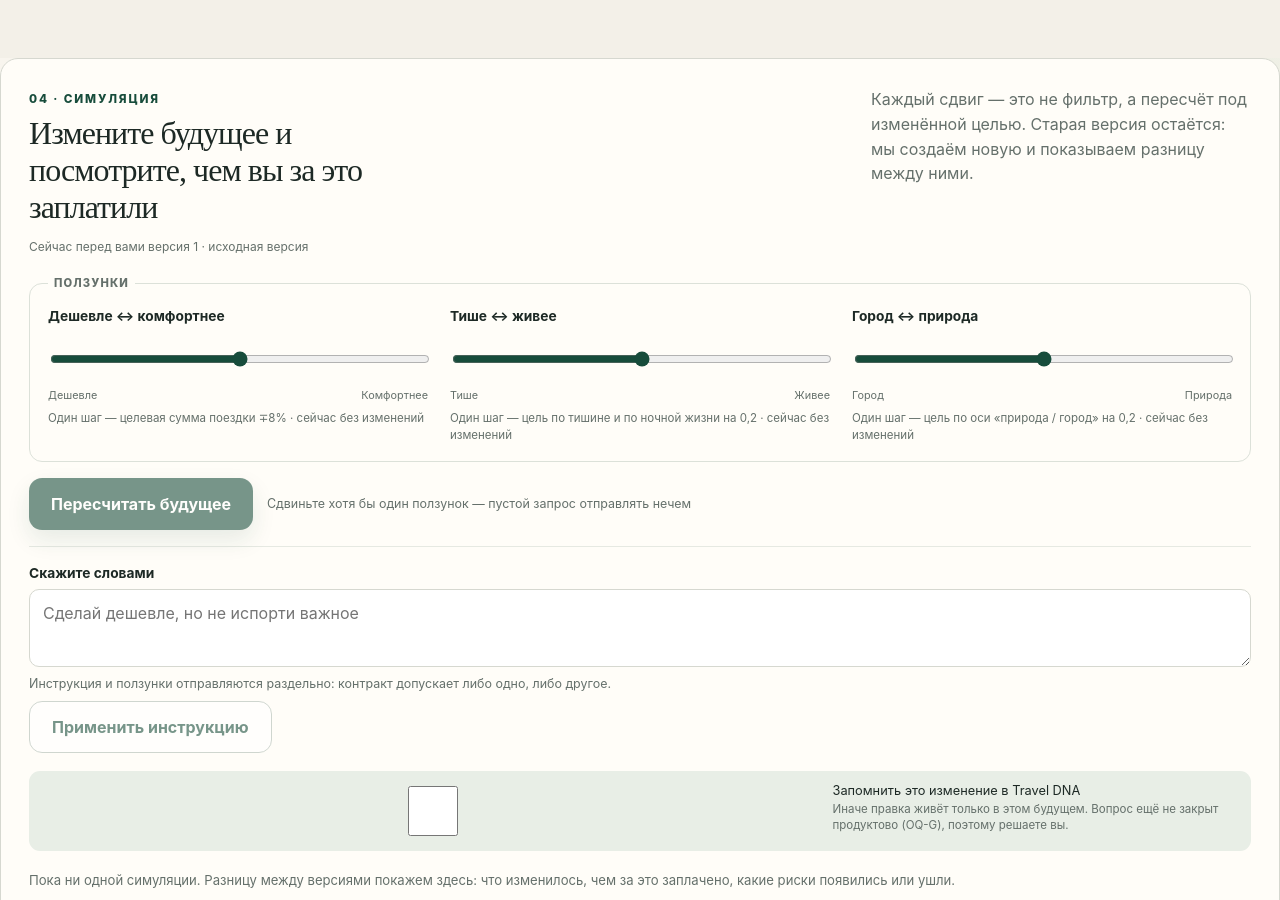
Scenario: SimulatorPanel › does not treat a job without a result as a success
Set the slider labelled "Дешевле ↔ комфортнее" to "-1": (179, 359) [50,334,430,384]
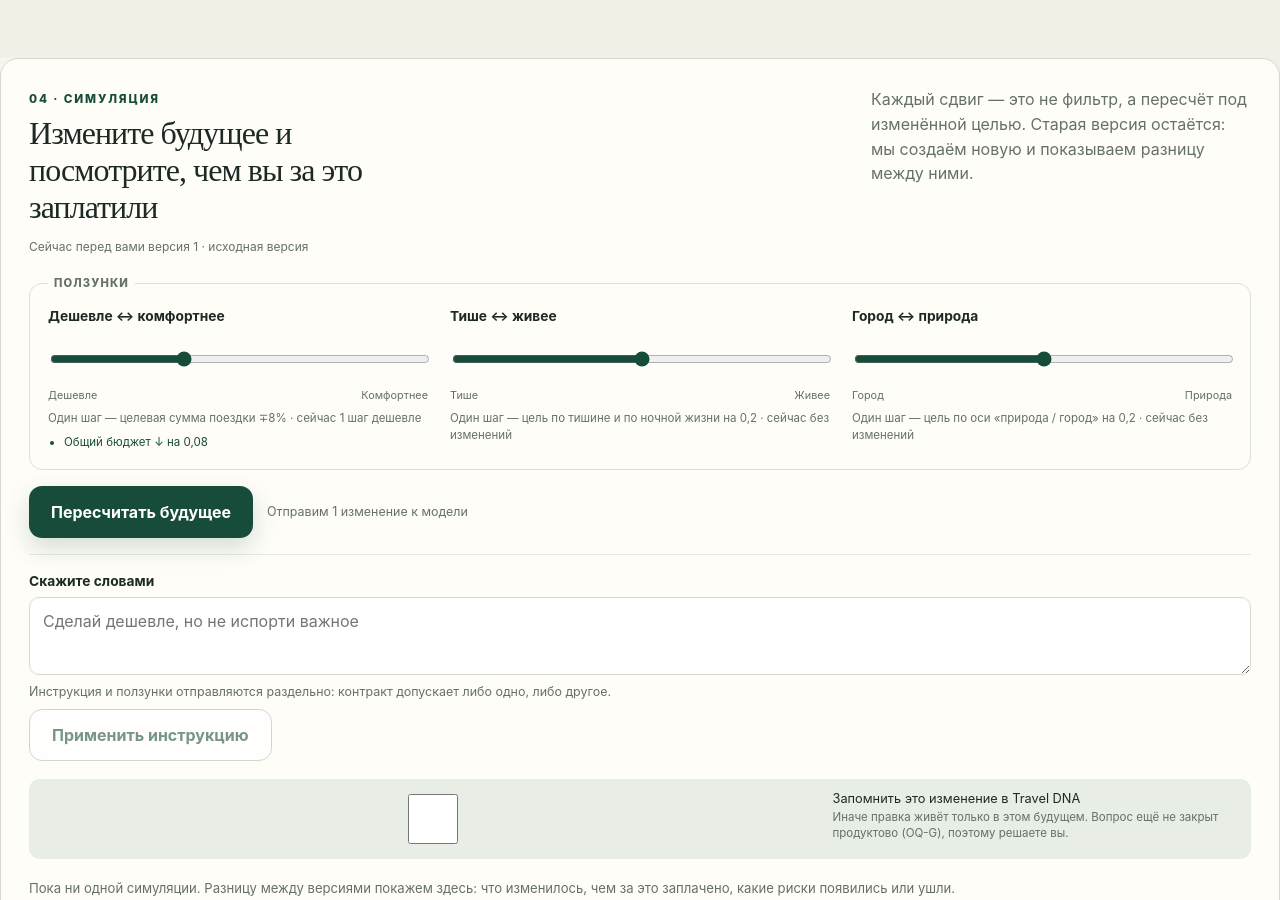
Click the button "Пересчитать будущее": (141, 512) [29,486,253,538]
(page scrolled)
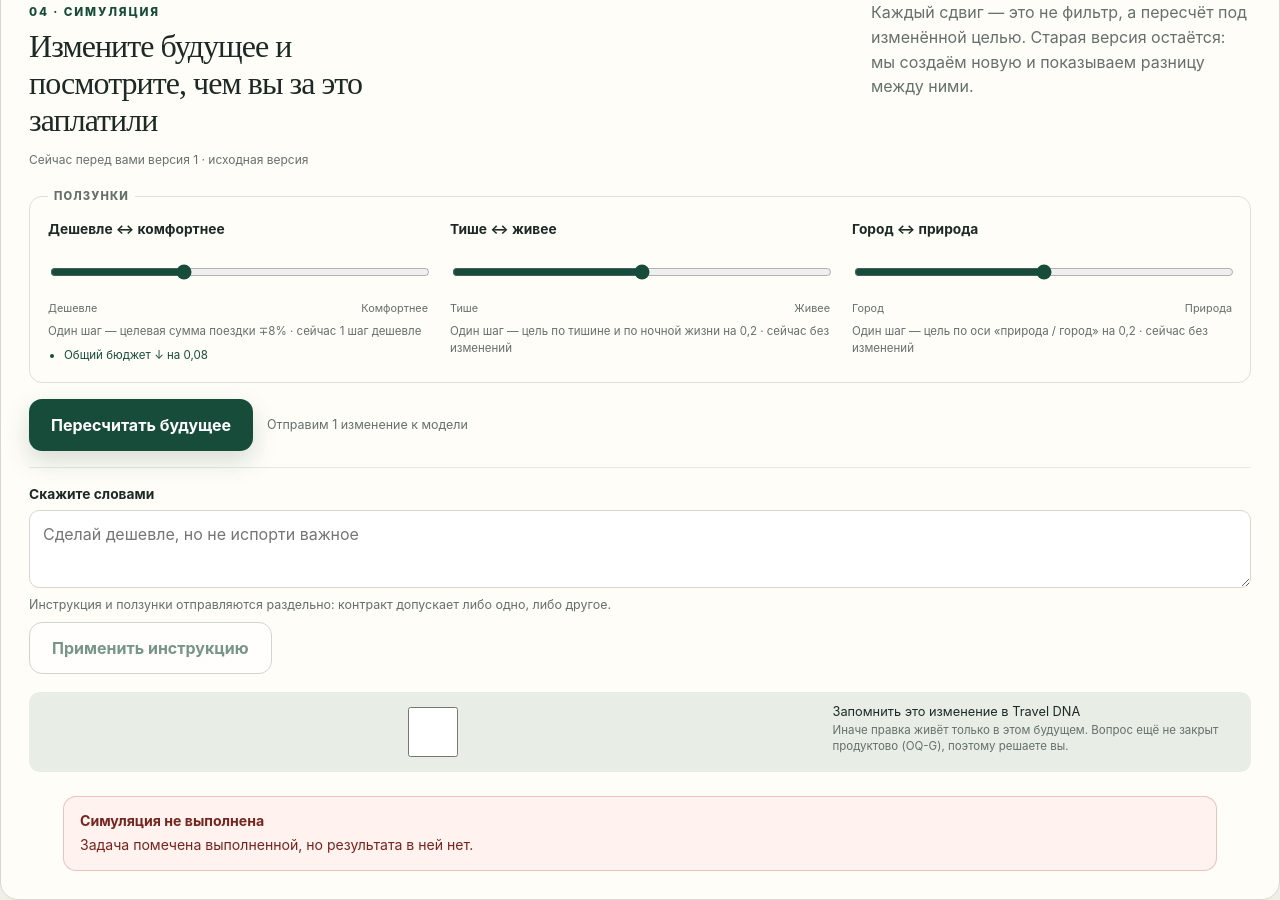
expect the message shows "результата в ней нет": met, box [80,836,473,853]
